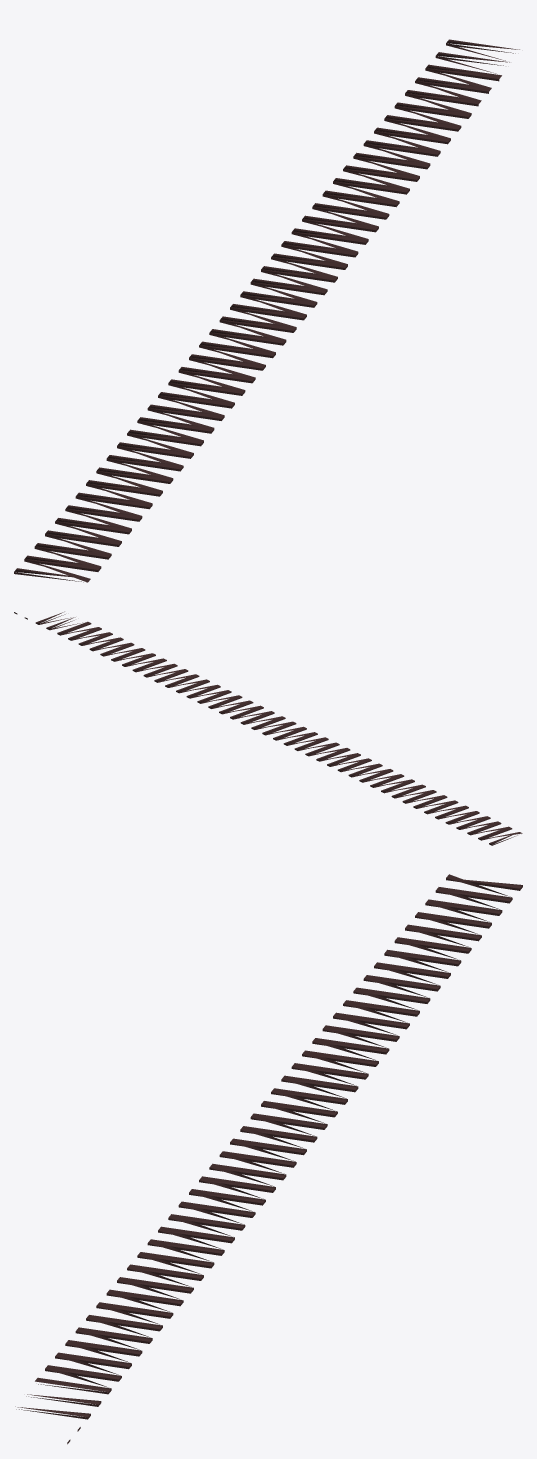
The picture shows the model from 3 angles, top to bottom: view 1: azimuth 90°, elevation 25°; view 2: azimuth 150°, elevation 25°; view 3: azimuth 270°, elevation 25°; orthographic projection. The views are drawn at different scales.
Bounding box in the file's own units: 36.71 × 0.064 × 13.89.
